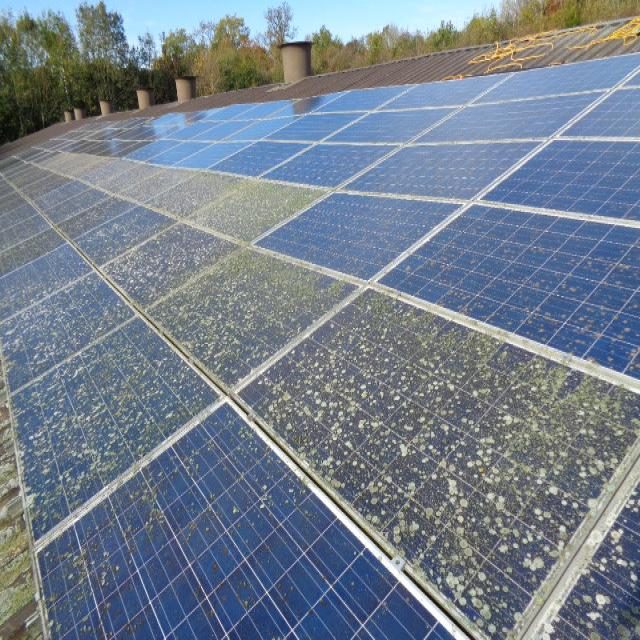dust-solar-panel: (0, 118, 640, 640)
